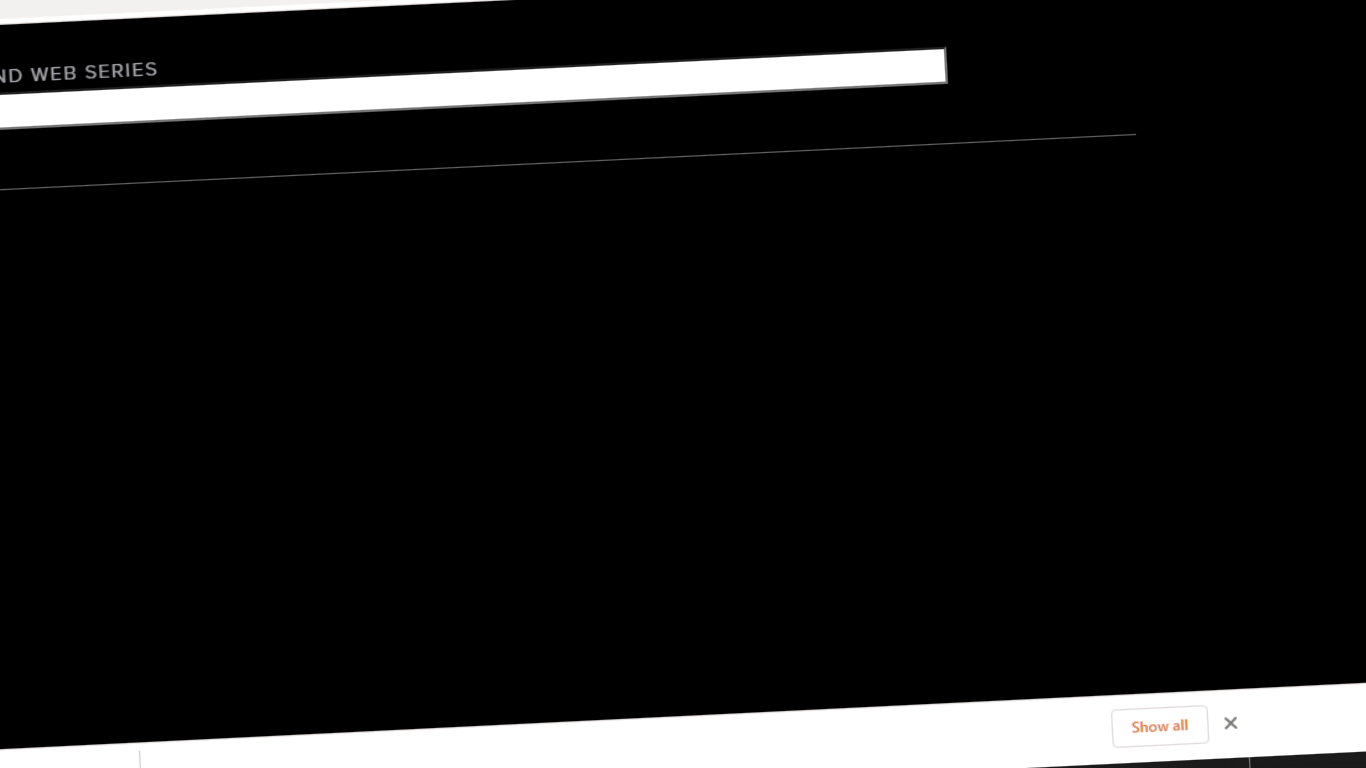searchtextbox: (1, 33, 949, 134)
